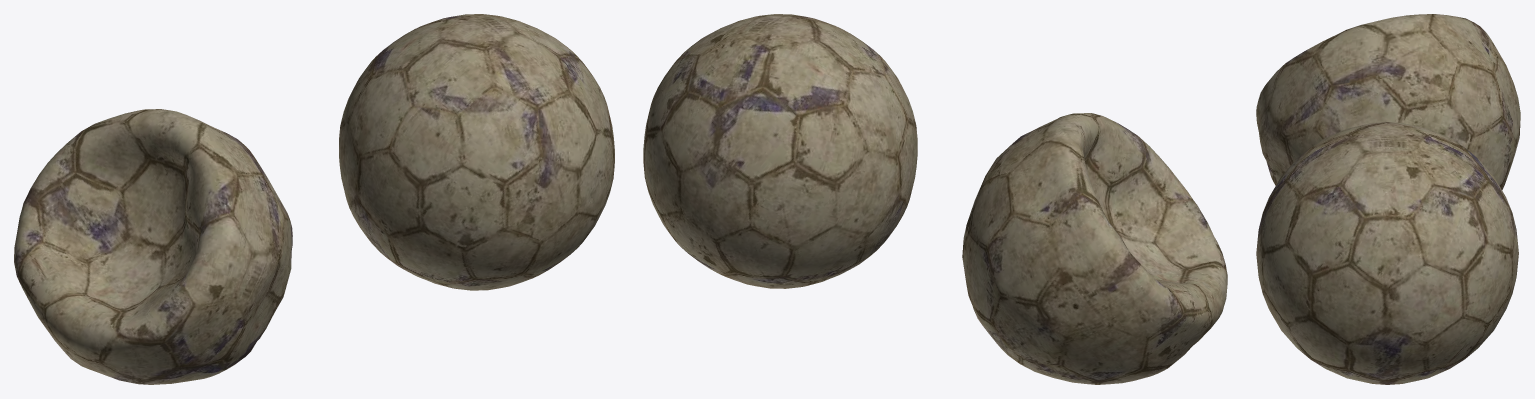
The model's file is balon.glb.
The picture shows the model from 3 angles, left to right: view 1: azimuth 30°, elevation 25°; view 2: azimuth 150°, elevation 25°; view 3: azimuth 270°, elevation 25°; orthographic projection. The views are drawn at different scales.
Visible parts, largest first — view 1: football_inflated, football_deflated; view 2: football_inflated, football_deflated; view 3: football_inflated, football_deflated.
Boxes of the visible parts, <box> form: football_inflated: <box>339,14,614,290</box>; football_deflated: <box>14,109,292,384</box>; football_inflated: <box>643,14,917,288</box>; football_deflated: <box>962,113,1227,384</box>; football_inflated: <box>1256,122,1518,384</box>; football_deflated: <box>1256,14,1520,189</box>.
Bounding box in the file's own units: 0.5089 × 0.2219 × 0.2222.
Materials: 1 (1 with a texture image).
